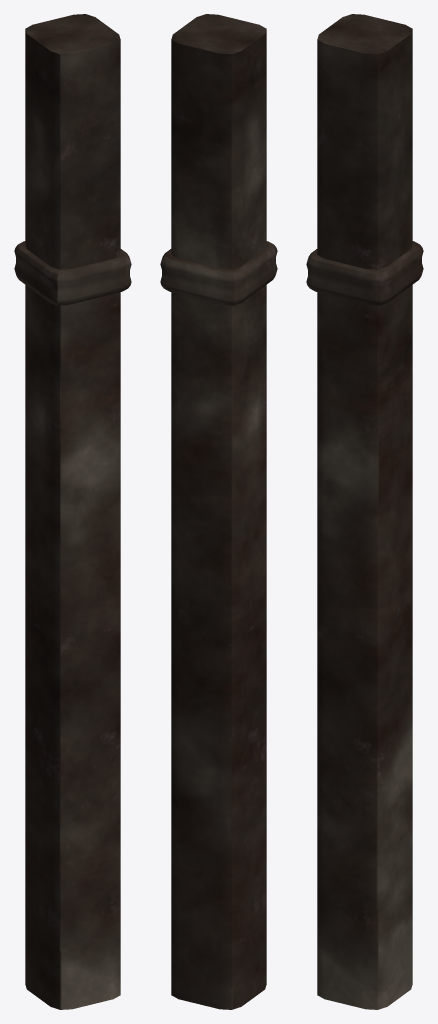
File: Beam_Support_Fancy.fbx
3 renders of one model, left to right at view 1: azimuth 30°, elevation 25°; view 2: azimuth 150°, elevation 25°; view 3: azimuth 330°, elevation 25°, orthographic.
Parts seen in each view (by area): view 1: Beam_Support_Fancy; view 2: Beam_Support_Fancy; view 3: Beam_Support_Fancy.
Part boxes in pixels (x1,y1,x2,y2): Beam_Support_Fancy: (14,14,131,1009); Beam_Support_Fancy: (160,14,277,1009); Beam_Support_Fancy: (306,14,423,1009).
Size of the model in its own units: 17.78 by 200 by 17.78.
